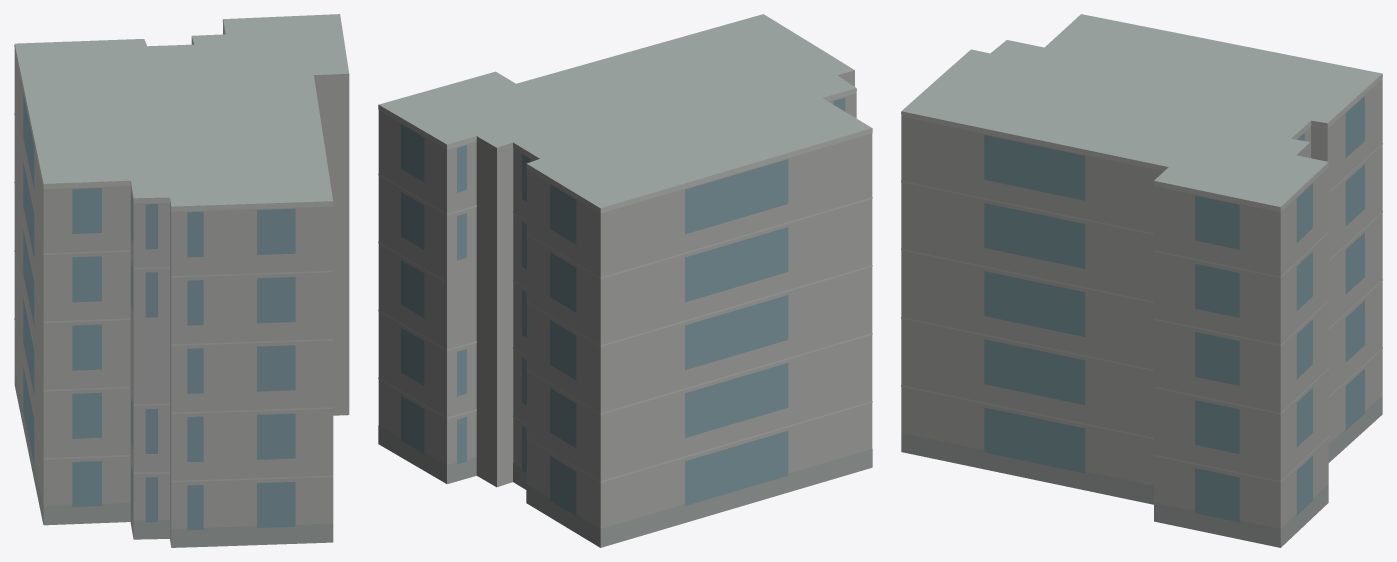
File: survey-upis-32716331.glb
3 views of the same model, side by side, from view 1: azimuth 30°, elevation 25°; view 2: azimuth 150°, elevation 25°; view 3: azimuth 270°, elevation 25° (orthographic).
Parts seen in each view (by area): view 1: survey-upis-32716331.tmp; view 2: survey-upis-32716331.tmp; view 3: survey-upis-32716331.tmp.
Part boxes in pixels (x1,y1,x2,y2): survey-upis-32716331.tmp: [14, 14, 349, 547]; survey-upis-32716331.tmp: [378, 14, 872, 547]; survey-upis-32716331.tmp: [901, 14, 1382, 547].
Bounding box in the file's own units: 19.26 × 15.82 × 20.28.
